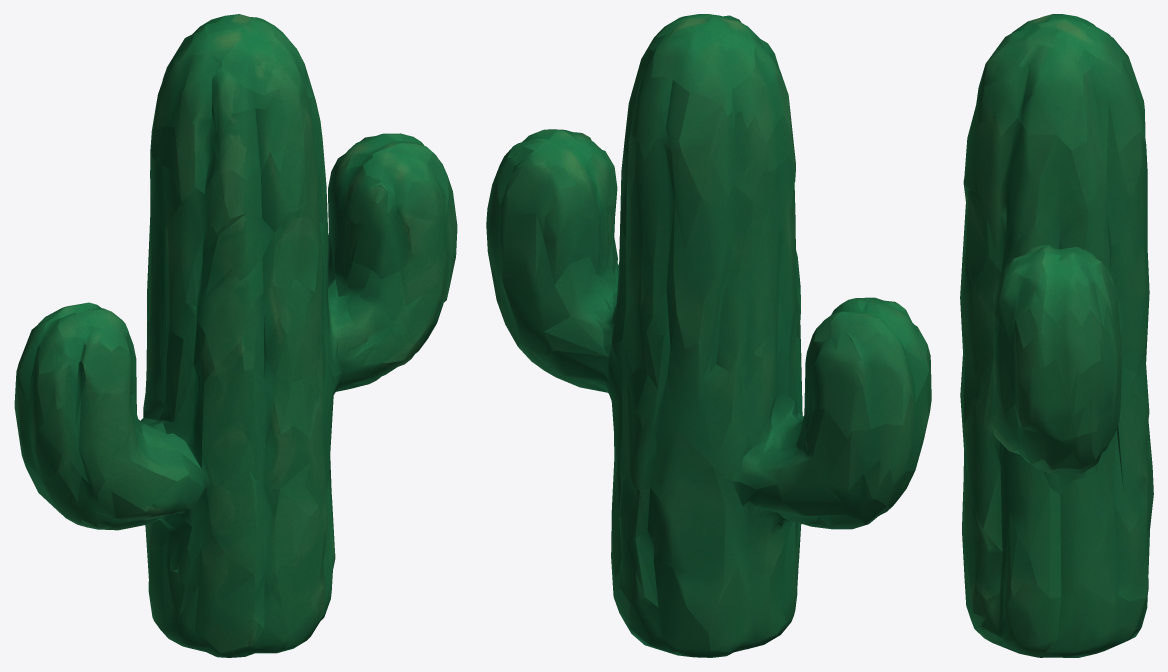
The model's file is cactus.glb.
3 renders of one model, left to right at view 1: azimuth 30°, elevation 25°; view 2: azimuth 150°, elevation 25°; view 3: azimuth 270°, elevation 25°, orthographic.
Visible parts, largest first — view 1: mesh_node; view 2: mesh_node; view 3: mesh_node.
Boxes of the visible parts, box(x1,y1,x2,y2) form: mesh_node: box(14, 14, 457, 657); mesh_node: box(486, 14, 931, 657); mesh_node: box(960, 14, 1153, 657).
Size of the model in its own units: 1.39 by 1.9 by 0.5526.
1 material, 1 textured.
